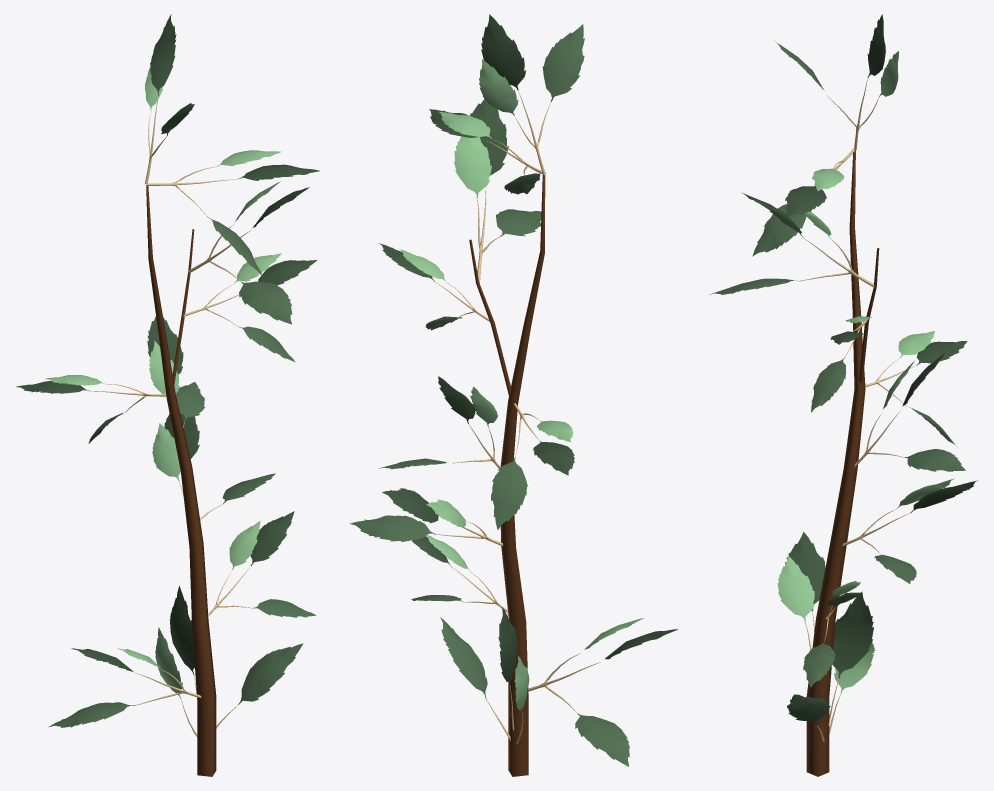
File: Tree11.fbx
The picture shows the model from 3 angles, left to right: view 1: azimuth 30°, elevation 25°; view 2: azimuth 150°, elevation 25°; view 3: azimuth 270°, elevation 25°; orthographic projection. The views are drawn at different scales.
Visible parts, largest first — view 1: Árbol.002, Hojas|tree|Dupli|, Hojas|tree|Dupli|8, Hojas|tree|Dupli|9, Hojas|tree|Dupli|4, Hojas|tree|Dupli|3, Hojas|tree|Dupli|6, Hojas|tree|Dupli|2, Hojas|tree|Dupli|1, Hojas|tree|Dupli|5, Hojas|tree|Dupli|7; view 2: Árbol.002, Hojas|tree|Dupli|2, Hojas|tree|Dupli|9, Hojas|tree|Dupli|7, Hojas|tree|Dupli|4, Hojas|tree|Dupli|, Hojas|tree|Dupli|5, Hojas|tree|Dupli|6, Hojas|tree|Dupli|1, Hojas|tree|Dupli|3, Hojas|tree|Dupli|8; view 3: Árbol.002, Hojas|tree|Dupli|, Hojas|tree|Dupli|5, Hojas|tree|Dupli|6, Hojas|tree|Dupli|4, Hojas|tree|Dupli|2, Hojas|tree|Dupli|1, Hojas|tree|Dupli|7, Hojas|tree|Dupli|9, Hojas|tree|Dupli|3, Hojas|tree|Dupli|8.
Part boxes in pixels (bbox=[...]): Árbol.002: bbox=[146, 185, 216, 776]; Hojas|tree|Dupli|: bbox=[155, 586, 303, 736]; Hojas|tree|Dupli|8: bbox=[208, 511, 316, 617]; Hojas|tree|Dupli|9: bbox=[188, 181, 309, 324]; Hojas|tree|Dupli|4: bbox=[152, 413, 275, 519]; Hojas|tree|Dupli|3: bbox=[183, 253, 317, 362]; Hojas|tree|Dupli|6: bbox=[147, 150, 319, 275]; Hojas|tree|Dupli|2: bbox=[145, 14, 194, 184]; Hojas|tree|Dupli|1: bbox=[147, 316, 205, 427]; Hojas|tree|Dupli|5: bbox=[48, 648, 201, 727]; Hojas|tree|Dupli|7: bbox=[16, 375, 166, 443]; Árbol.002: bbox=[469, 174, 545, 776]; Hojas|tree|Dupli|2: bbox=[479, 14, 584, 174]; Hojas|tree|Dupli|9: bbox=[454, 99, 541, 282]; Hojas|tree|Dupli|7: bbox=[491, 403, 574, 529]; Hojas|tree|Dupli|4: bbox=[349, 488, 503, 546]; Hojas|tree|Dupli|: bbox=[440, 607, 529, 744]; Hojas|tree|Dupli|5: bbox=[528, 618, 678, 766]; Hojas|tree|Dupli|6: bbox=[429, 109, 542, 194]; Hojas|tree|Dupli|1: bbox=[379, 376, 500, 469]; Hojas|tree|Dupli|3: bbox=[379, 243, 489, 330]; Hojas|tree|Dupli|8: bbox=[411, 534, 508, 613]; Árbol.002: bbox=[806, 150, 879, 776]; Hojas|tree|Dupli|: bbox=[787, 591, 873, 742]; Hojas|tree|Dupli|5: bbox=[777, 532, 875, 653]; Hojas|tree|Dupli|6: bbox=[752, 149, 854, 256]; Hojas|tree|Dupli|4: bbox=[842, 478, 978, 583]; Hojas|tree|Dupli|2: bbox=[775, 14, 898, 150]; Hojas|tree|Dupli|1: bbox=[854, 353, 965, 471]; Hojas|tree|Dupli|7: bbox=[865, 331, 967, 447]; Hojas|tree|Dupli|9: bbox=[709, 192, 874, 294]; Hojas|tree|Dupli|3: bbox=[811, 316, 871, 412]; Hojas|tree|Dupli|8: bbox=[803, 581, 860, 687].
Size of the model in its own units: 125 by 333 by 109.
